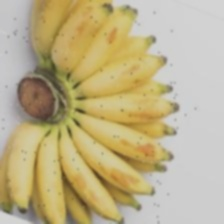banana: (34, 38, 208, 177)
